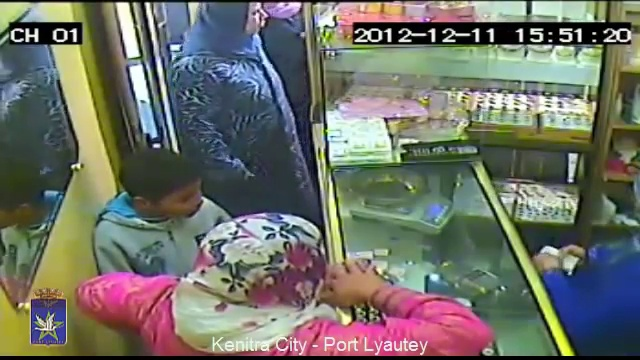face: (149, 178, 205, 225), (237, 0, 274, 32)
